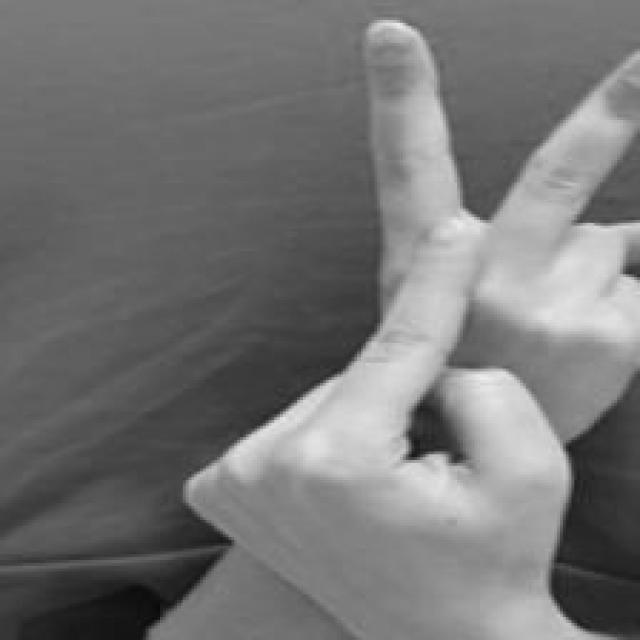Y: (178, 20, 640, 639)
